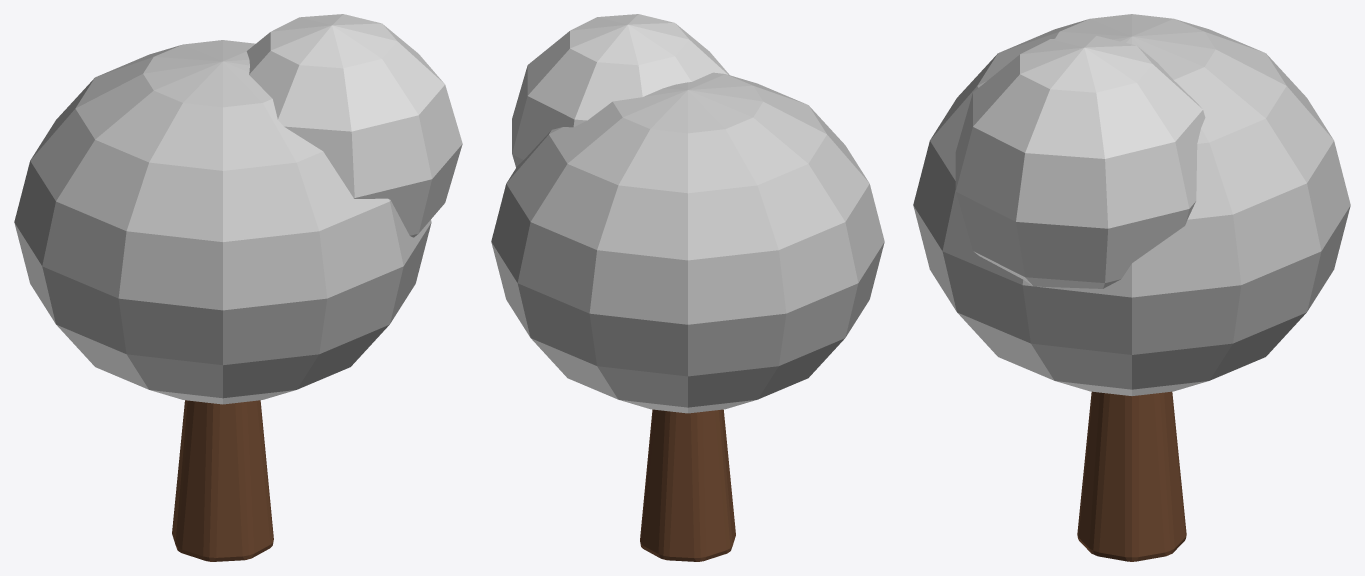
The model's file is tree_blob.glb.
3 views of the same model, side by side, from view 1: azimuth 30°, elevation 25°; view 2: azimuth 150°, elevation 25°; view 3: azimuth 270°, elevation 25° (orthographic). The views are drawn at different scales.
Visible parts, largest first — view 1: tree_blob; view 2: tree_blob; view 3: tree_blob.
Part boxes in pixels (x1,y1,x2,y2): tree_blob: [14, 14, 462, 561]; tree_blob: [491, 14, 884, 561]; tree_blob: [913, 14, 1350, 561].
Bounding box in the file's own units: 2.41 × 3.12 × 2.3.
